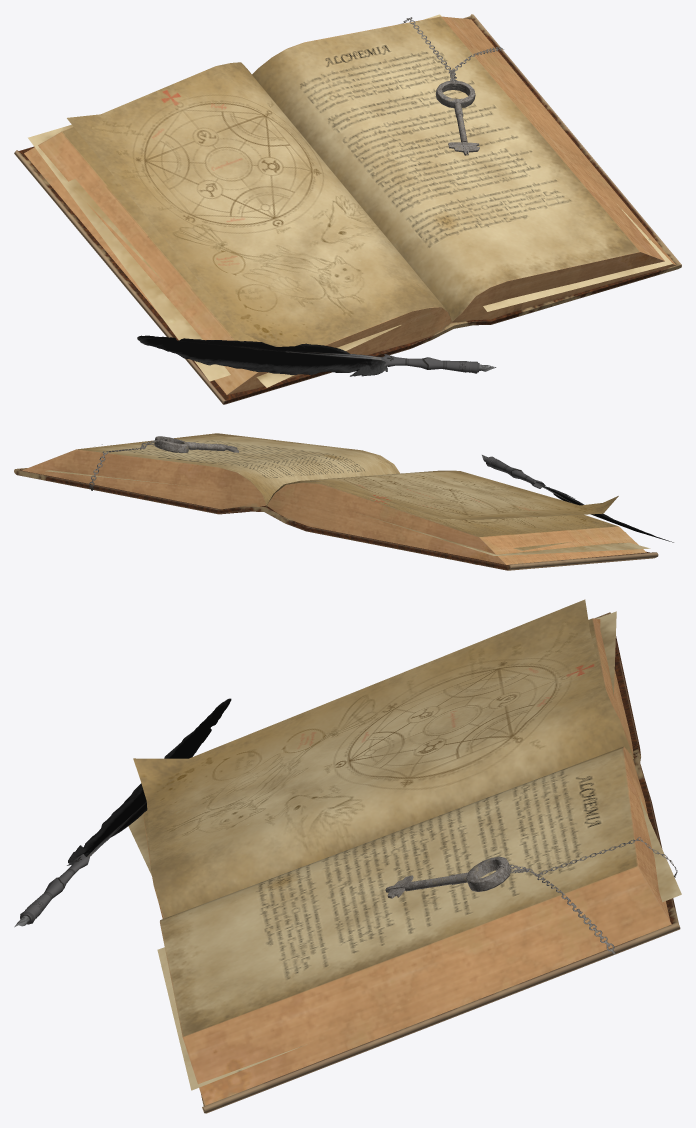
Rendered from livro-antigo-com-pena.glb.
3 renders of one model, top to bottom at view 1: azimuth 30°, elevation 25°; view 2: azimuth 150°, elevation 25°; view 3: azimuth 270°, elevation 25°, orthographic. The views are drawn at different scales.
Parts seen in each view (by area): view 1: Book_sheets, Loose_sheet_03, Book_frame, Quill_Feather, Loose_sheet_02, Loose_Sheet_04, Lloose_sheet_01, Quill_Body, Key_circle; view 2: Book_sheets, Loose_sheet_03, Book_frame, Loose_sheet_02, Quill_Body, Quill_Feather, Key_circle, Plane2, Key_stick; view 3: Book_sheets, Loose_sheet_03, Book_frame, Quill_Feather, Loose_Sheet_04, Key_circle, Quill_Body, Loose_sheet_02.
Boxes of the visible parts, bbox=[...] form: Book_sheets: bbox=[24, 16, 676, 394]; Loose_sheet_03: bbox=[67, 62, 450, 346]; Book_frame: bbox=[14, 14, 681, 404]; Quill_Feather: bbox=[137, 335, 387, 376]; Loose_sheet_02: bbox=[28, 124, 230, 381]; Loose_Sheet_04: bbox=[424, 14, 672, 311]; Lloose_sheet_01: bbox=[67, 179, 401, 387]; Quill_Body: bbox=[381, 354, 479, 373]; Key_circle: bbox=[435, 80, 475, 108]; Book_sheets: bbox=[22, 433, 646, 564]; Loose_sheet_03: bbox=[266, 470, 618, 519]; Book_frame: bbox=[14, 468, 658, 570]; Loose_sheet_02: bbox=[360, 514, 650, 555]; Quill_Body: bbox=[486, 456, 545, 488]; Quill_Feather: bbox=[535, 483, 673, 542]; Key_circle: bbox=[154, 436, 189, 452]; Plane2: bbox=[89, 438, 167, 490]; Key_stick: bbox=[186, 442, 225, 451]; Book_sheets: bbox=[143, 618, 671, 1105]; Loose_sheet_03: bbox=[133, 599, 633, 918]; Book_frame: bbox=[201, 612, 680, 1113]; Quill_Feather: bbox=[67, 698, 231, 865]; Loose_Sheet_04: bbox=[157, 797, 681, 1090]; Key_circle: bbox=[466, 856, 511, 891]; Quill_Body: bbox=[20, 854, 89, 924]; Loose_sheet_02: bbox=[597, 611, 616, 695].
Size of the model in its own units: 6.34 by 1.88 by 5.13.
Materials: 1 (1 with a texture image).
